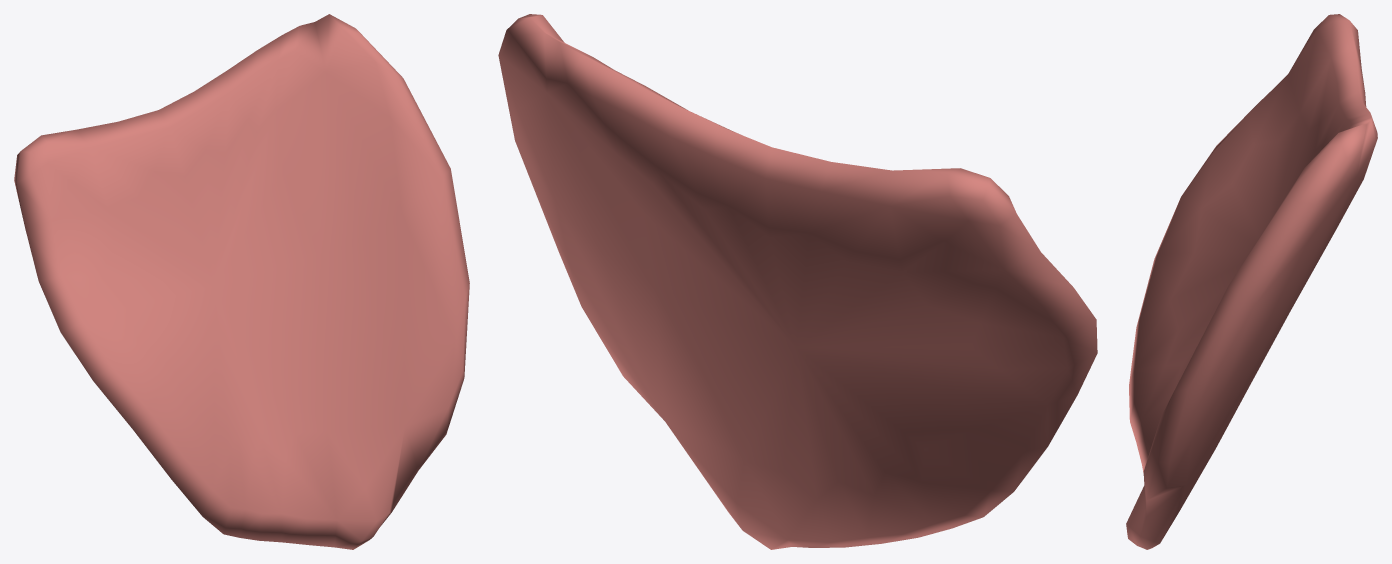
The picture shows the model from 3 angles, left to right: view 1: azimuth 30°, elevation 25°; view 2: azimuth 150°, elevation 25°; view 3: azimuth 270°, elevation 25°; orthographic projection. The views are drawn at different scales.
Parts seen in each view (by area): view 1: ZA_4eaed5db76285f37; view 2: ZA_4eaed5db76285f37; view 3: ZA_4eaed5db76285f37.
Boxes of the visible parts, x1=… form: ZA_4eaed5db76285f37: x1=14, y1=14, x2=469, y2=549; ZA_4eaed5db76285f37: x1=498, y1=14, x2=1097, y2=549; ZA_4eaed5db76285f37: x1=1126, y1=14, x2=1377, y2=549.
Size of the model in its own units: 0.00553 by 0.00573 by 0.00283.
